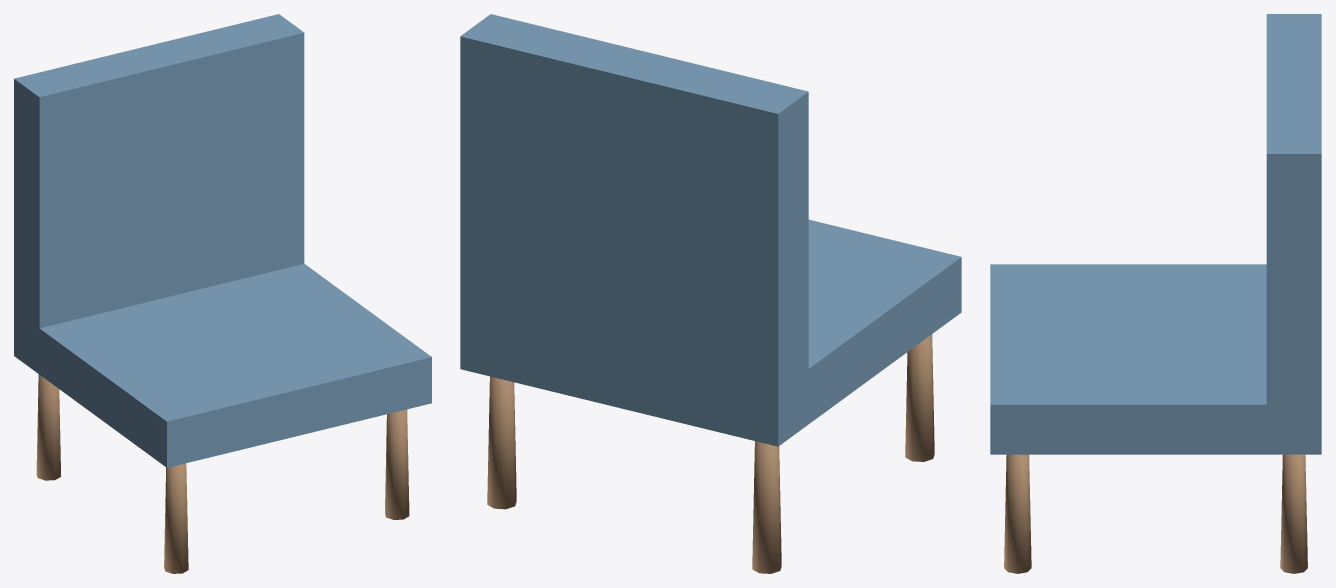
The model's file is 342d8ef5-8ffd-468b-970b-df0b49c899d3.glb.
3 renders of one model, left to right at view 1: azimuth 30°, elevation 25°; view 2: azimuth 150°, elevation 25°; view 3: azimuth 270°, elevation 25°, orthographic. The views are drawn at different scales.
Parts seen in each view (by area): view 1: Generated3DMesh; view 2: Generated3DMesh; view 3: Generated3DMesh.
Part boxes in pixels (x1,y1,x2,y2): Generated3DMesh: (14, 14, 431, 573); Generated3DMesh: (460, 14, 961, 573); Generated3DMesh: (990, 14, 1321, 573).
Bounding box in the file's own units: 1.2 × 1.7 × 1.2.
